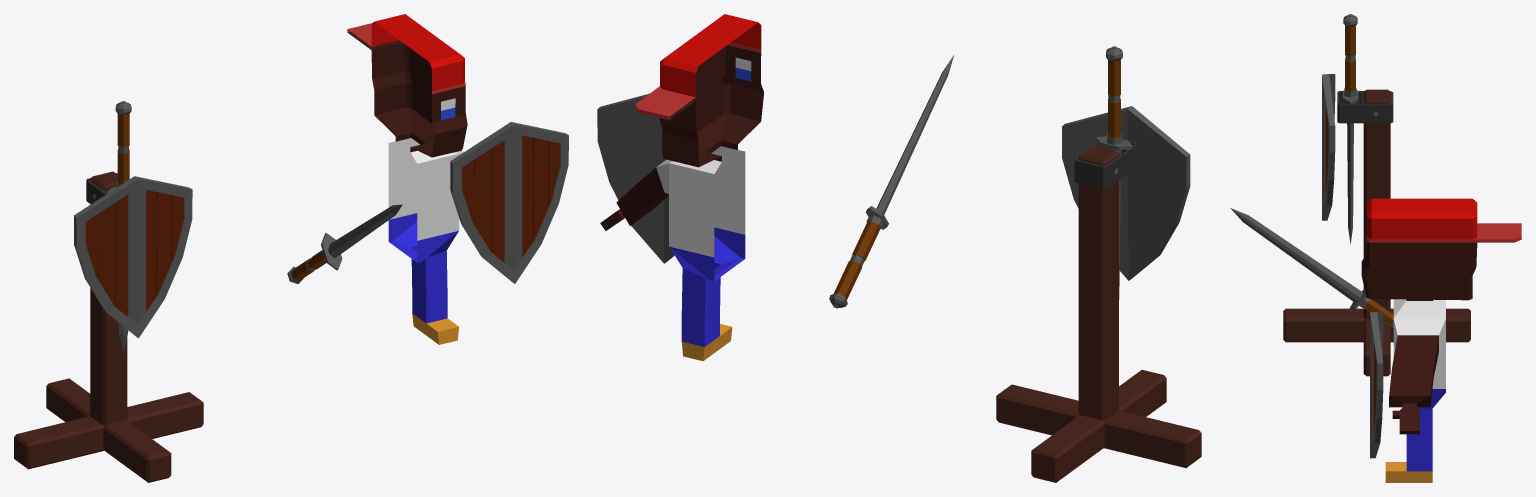
The model's file is thirdPersonItems.glb.
3 views of the same model, side by side, from view 1: azimuth 30°, elevation 25°; view 2: azimuth 150°, elevation 25°; view 3: azimuth 270°, elevation 25° (orthographic). The views are drawn at different scales.
Parts seen in each view (by area): view 1: Character, Rack, Shield, Shield.001, Sword.001, Sword; view 2: Character, Rack, Shield, Shield.001, Sword.001, Sword; view 3: Character, Rack, Sword.001, Shield.001, Shield, Sword.
Boxes of the visible parts, x1,y1,x2,y2 form: Character: [347, 14, 467, 344]; Rack: [14, 171, 203, 482]; Shield: [74, 176, 192, 338]; Shield.001: [450, 122, 568, 283]; Sword.001: [287, 204, 402, 283]; Sword: [106, 101, 131, 352]; Character: [600, 14, 763, 360]; Rack: [996, 141, 1201, 482]; Shield: [1062, 106, 1190, 280]; Shield.001: [597, 94, 674, 263]; Sword.001: [829, 55, 953, 308]; Sword: [1096, 46, 1132, 299]; Character: [1361, 198, 1521, 482]; Rack: [1283, 89, 1470, 376]; Sword.001: [1230, 208, 1393, 327]; Shield.001: [1370, 311, 1383, 458]; Shield: [1322, 74, 1335, 220]; Sword: [1343, 14, 1358, 244].
Bounding box in the file's own units: 4.32 × 2.65 × 2.17.
